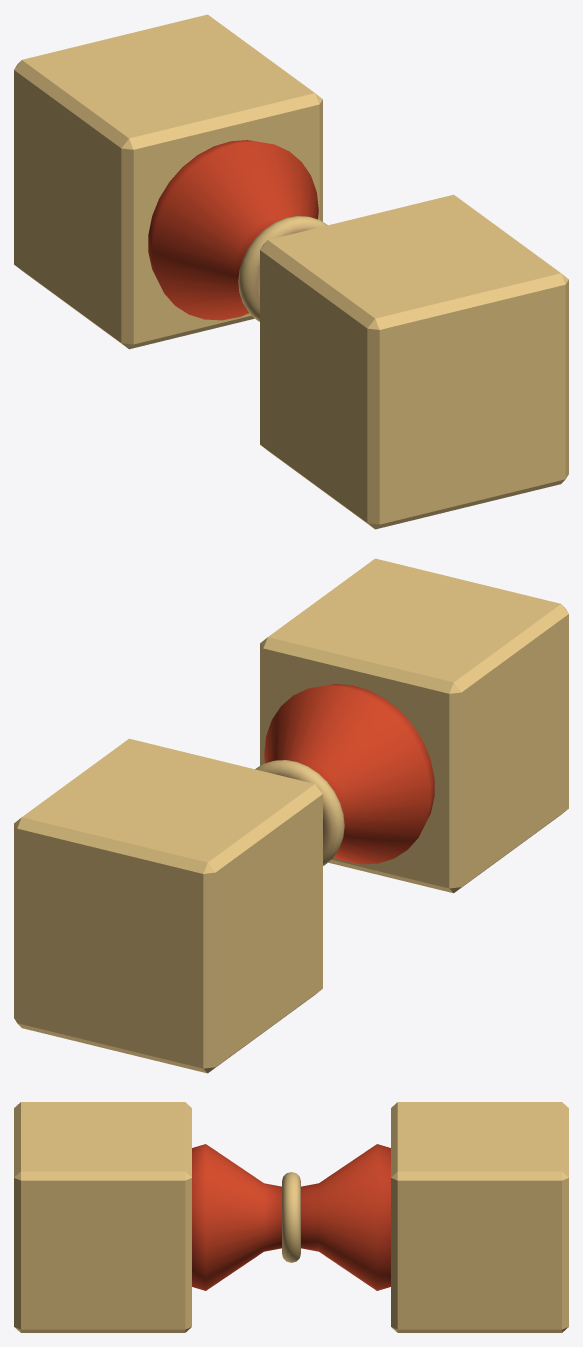
File: R4C_STRUT_STANDARD.fbx
The picture shows the model from 3 angles, top to bottom: view 1: azimuth 30°, elevation 25°; view 2: azimuth 150°, elevation 25°; view 3: azimuth 270°, elevation 25°; orthographic projection. The views are drawn at different scales.
Parts seen in each view (by area): view 1: R4C_STRUT_STANDARD; view 2: R4C_STRUT_STANDARD; view 3: R4C_STRUT_STANDARD.
Part boxes in pixels (left/top/right/bottom): R4C_STRUT_STANDARD: left=14, top=14, right=568, bottom=529; R4C_STRUT_STANDARD: left=14, top=558, right=568, bottom=1073; R4C_STRUT_STANDARD: left=14, top=1102, right=568, bottom=1332.
Bounding box in the file's own units: 0.52 × 0.52 × 1.62.
